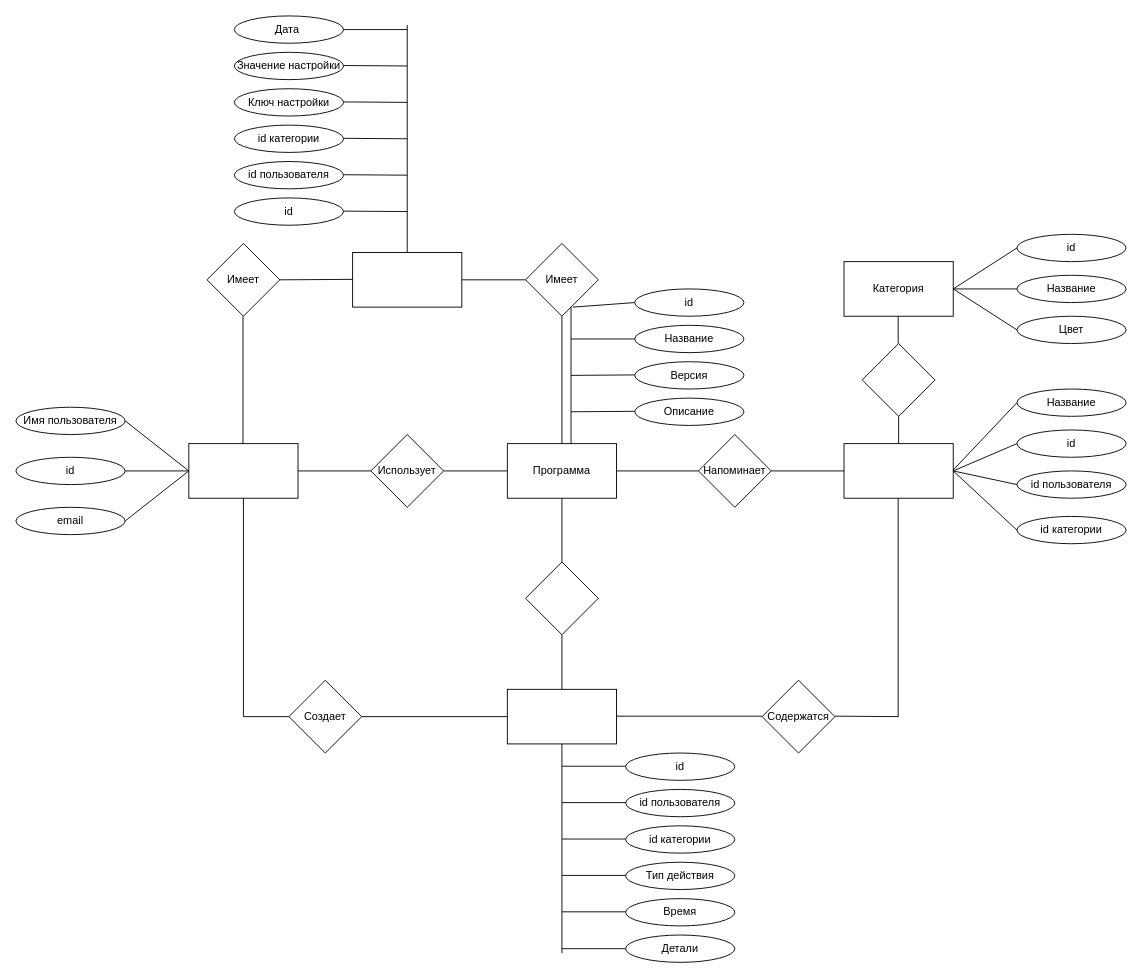
Image size: 1142x978. Some labels were removed from this diagram. The centre of each missing label's shape, as x and y in pixels:
"Журнал действий" goes at pixel 561 716.
"Задачи" goes at pixel 898 470.
"Имеют" goes at pixel 898 379.
"Настройки" goes at pixel 407 279.
"Пользователь" goes at pixel 243 470.
"Связана" goes at pixel 561 598.
